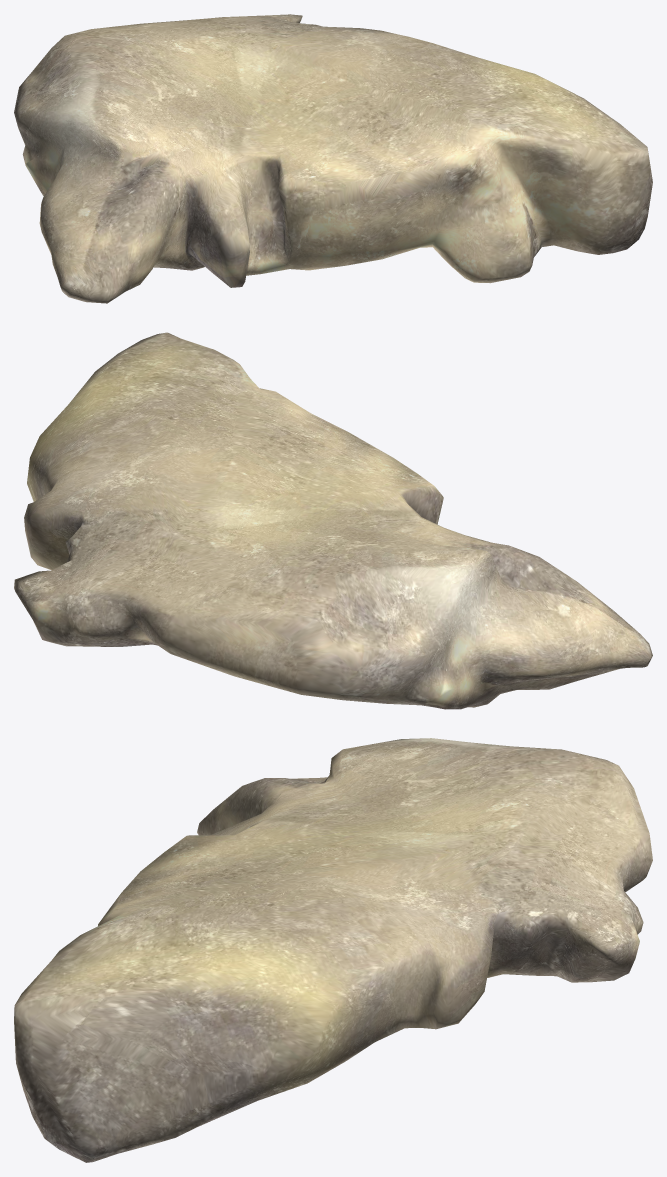
Rendered from Carbonate2.fbx.
3 renders of one model, top to bottom at view 1: azimuth 30°, elevation 25°; view 2: azimuth 150°, elevation 25°; view 3: azimuth 270°, elevation 25°, orthographic. The views are drawn at different scales.
Parts seen in each view (by area): view 1: Carbonate2_Baked; view 2: Carbonate2_Baked; view 3: Carbonate2_Baked.
Part boxes in pixels (box(x1,y1,x2,y2)): Carbonate2_Baked: box(14, 14, 652, 303); Carbonate2_Baked: box(14, 332, 652, 709); Carbonate2_Baked: box(14, 738, 652, 1162).
Bounding box in the file's own units: 45.97 × 13.61 × 38.45.
